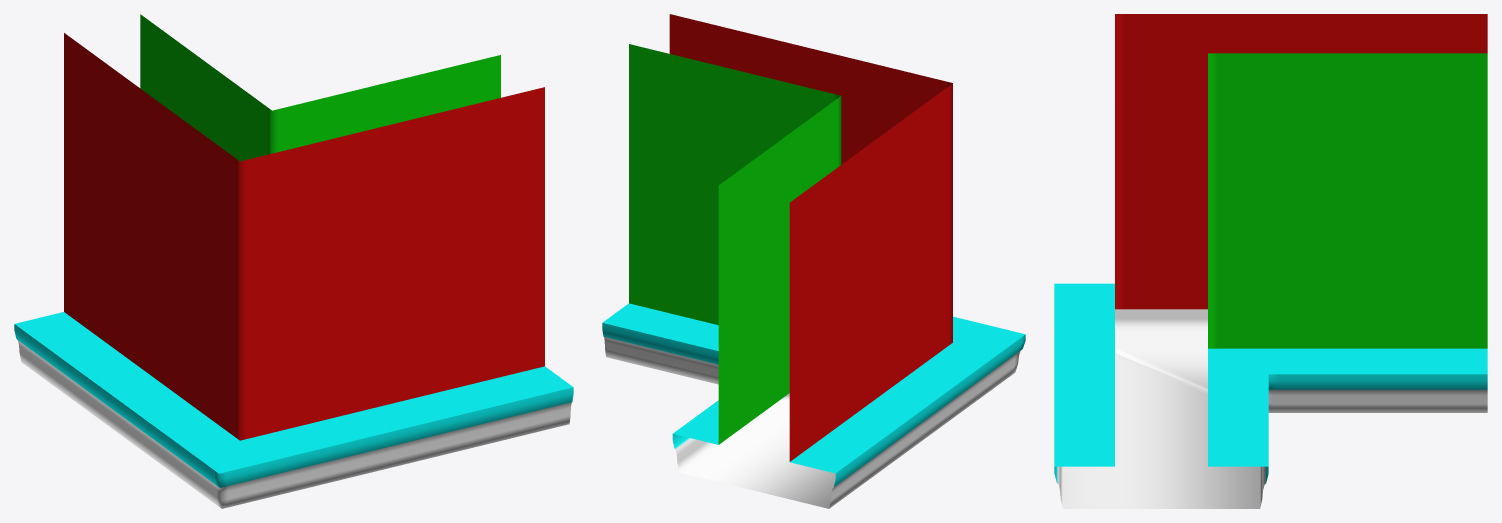
File: SM_FriezeArchDualOpenCorner2m.fbx
The picture shows the model from 3 angles, left to right: view 1: azimuth 30°, elevation 25°; view 2: azimuth 150°, elevation 25°; view 3: azimuth 270°, elevation 25°; orthographic projection. The views are drawn at different scales.
Visible parts, largest first — view 1: SM_FriezeArchDualOpenCorner2m; view 2: SM_FriezeArchDualOpenCorner2m; view 3: SM_FriezeArchDualOpenCorner2m.
Boxes of the visible parts, x1=… form: SM_FriezeArchDualOpenCorner2m: x1=14, y1=14, x2=573, y2=508; SM_FriezeArchDualOpenCorner2m: x1=602, y1=14, x2=1025, y2=508; SM_FriezeArchDualOpenCorner2m: x1=1054, y1=14, x2=1487, y2=508.
Bounding box in the file's own units: 232 × 200 × 232.
